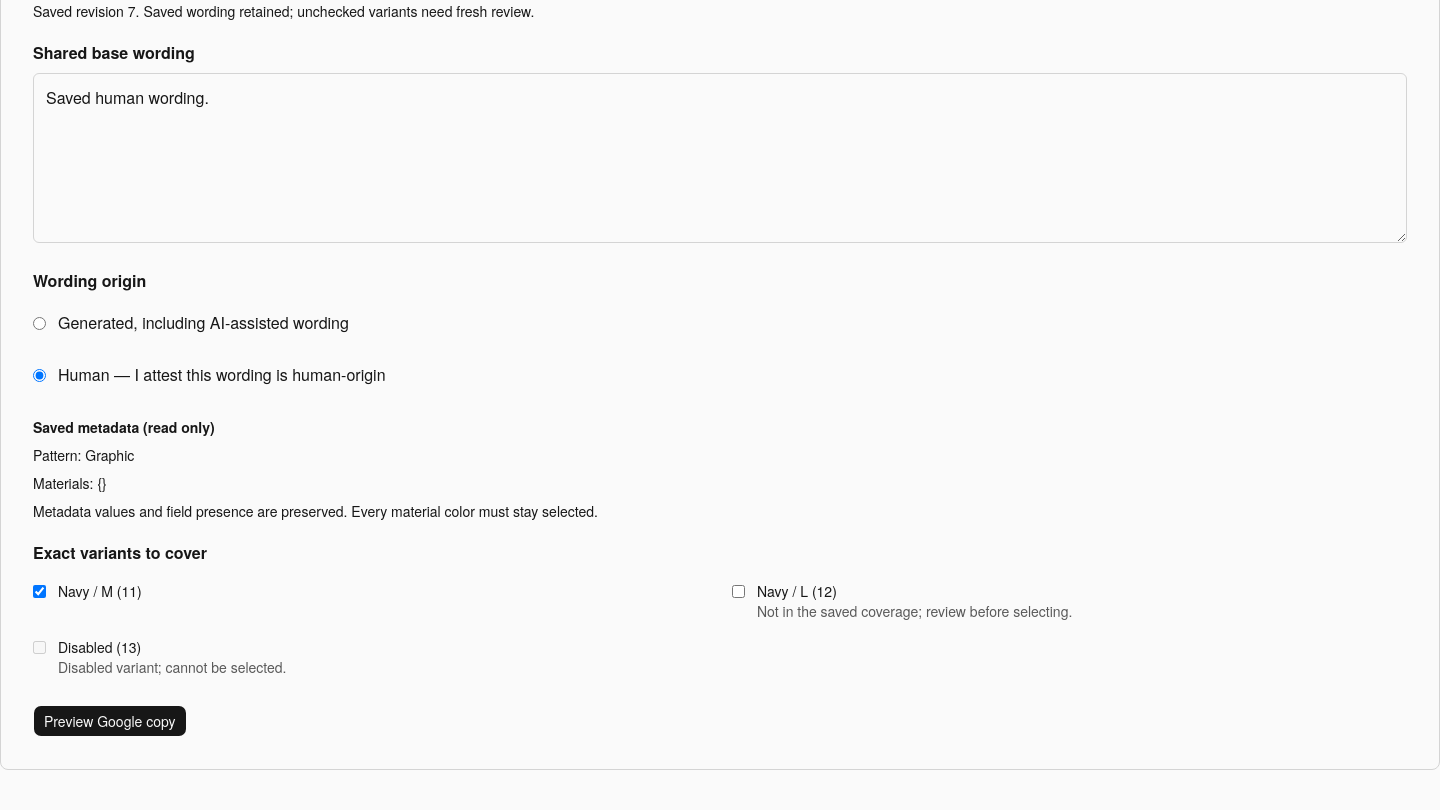
it: Google copy client safety › keeps all decisions blocked if unknown-outcome readback fails
The image size is (1440, 810).
(page scrolled)
Expected: the text "Saved revision 7" is shown, [33, 1, 534, 21]
Click the button "Preview Google copy" at x=110, y=721, box [33, 705, 187, 737]
(page scrolled)
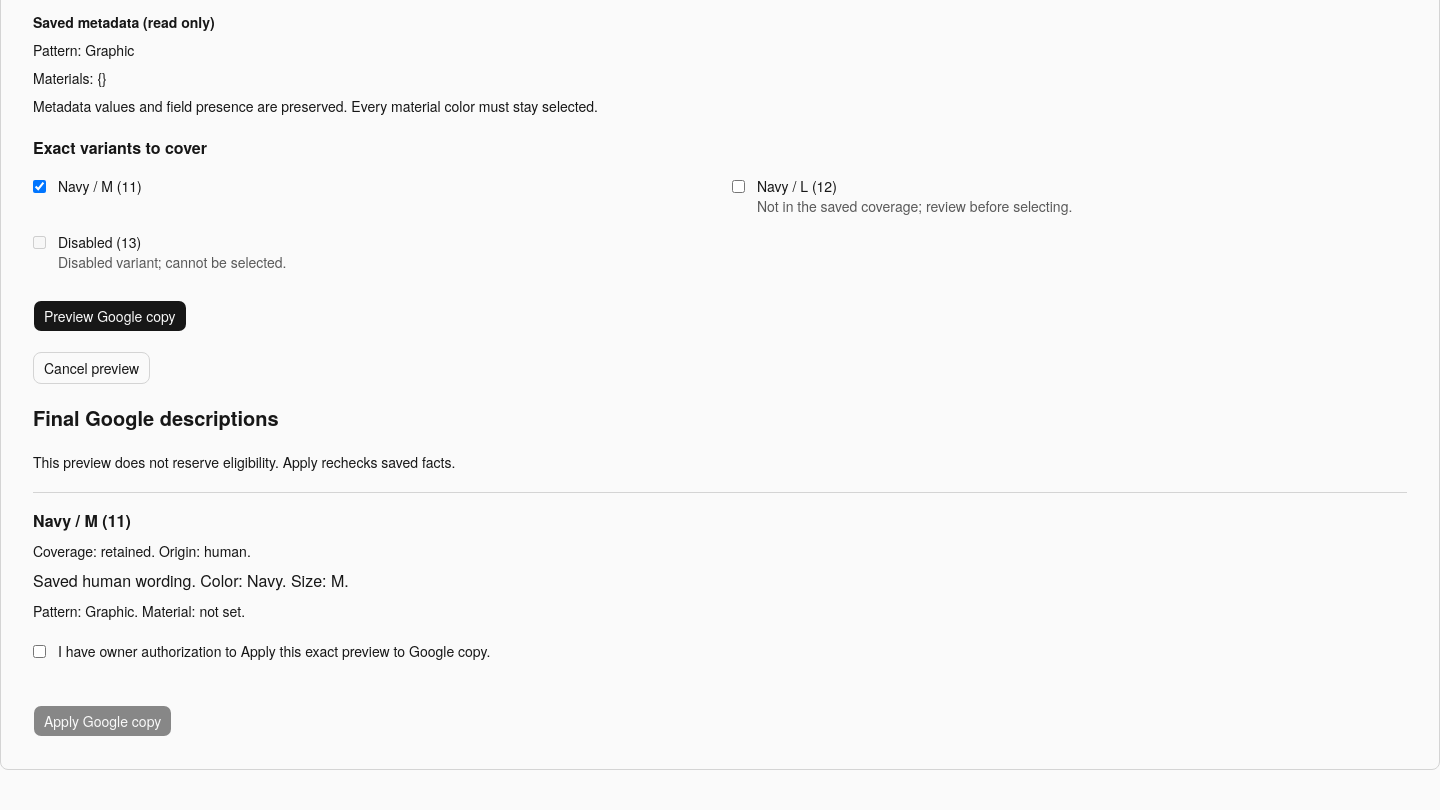
Now the heading "Final Google descriptions" is shown, box [33, 403, 278, 432]
Click the checkbox labelled "I have owner authorization" at x=40, y=652, box [33, 645, 46, 658]
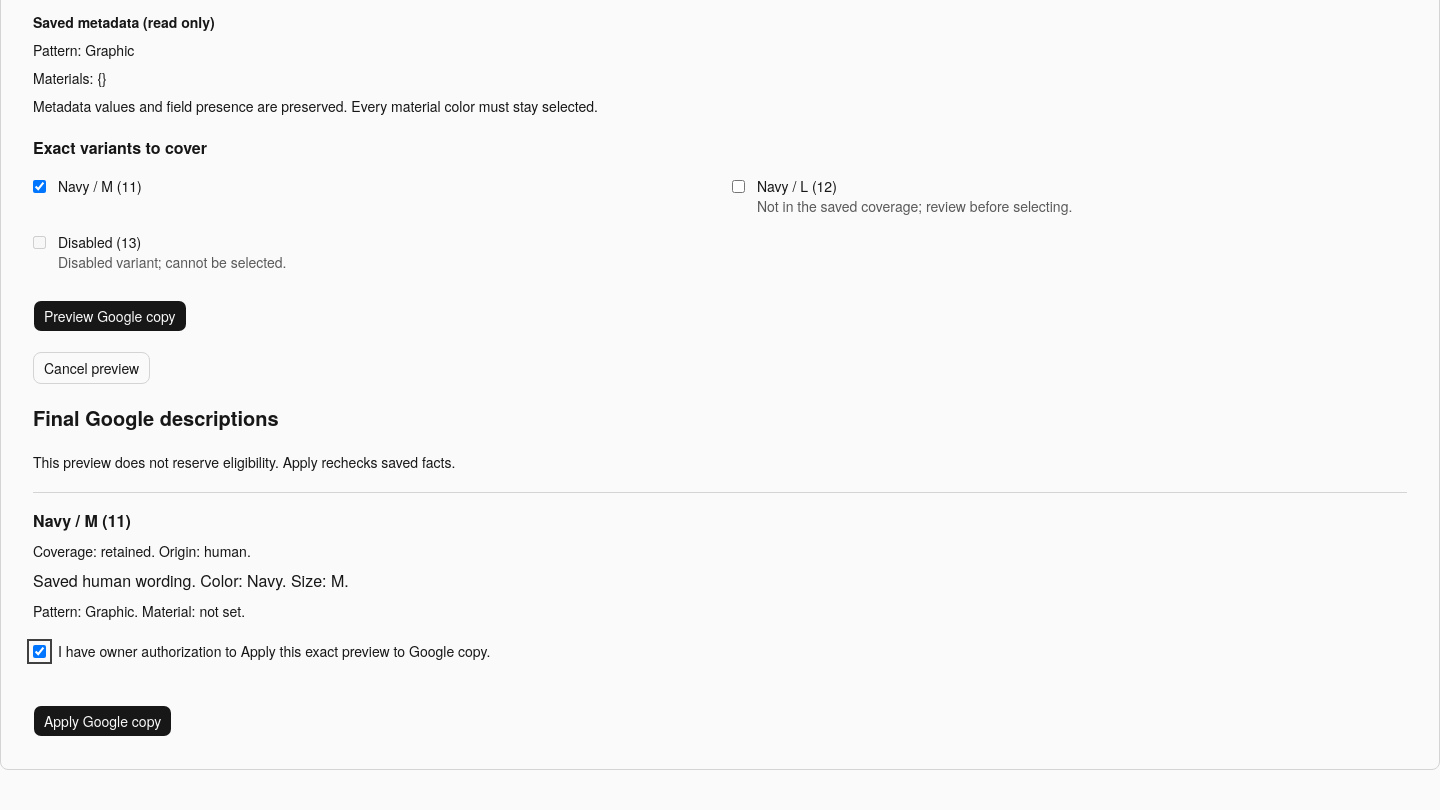
Click the button "Apply Google copy" at x=103, y=721, box [33, 705, 172, 737]
(page scrolled)
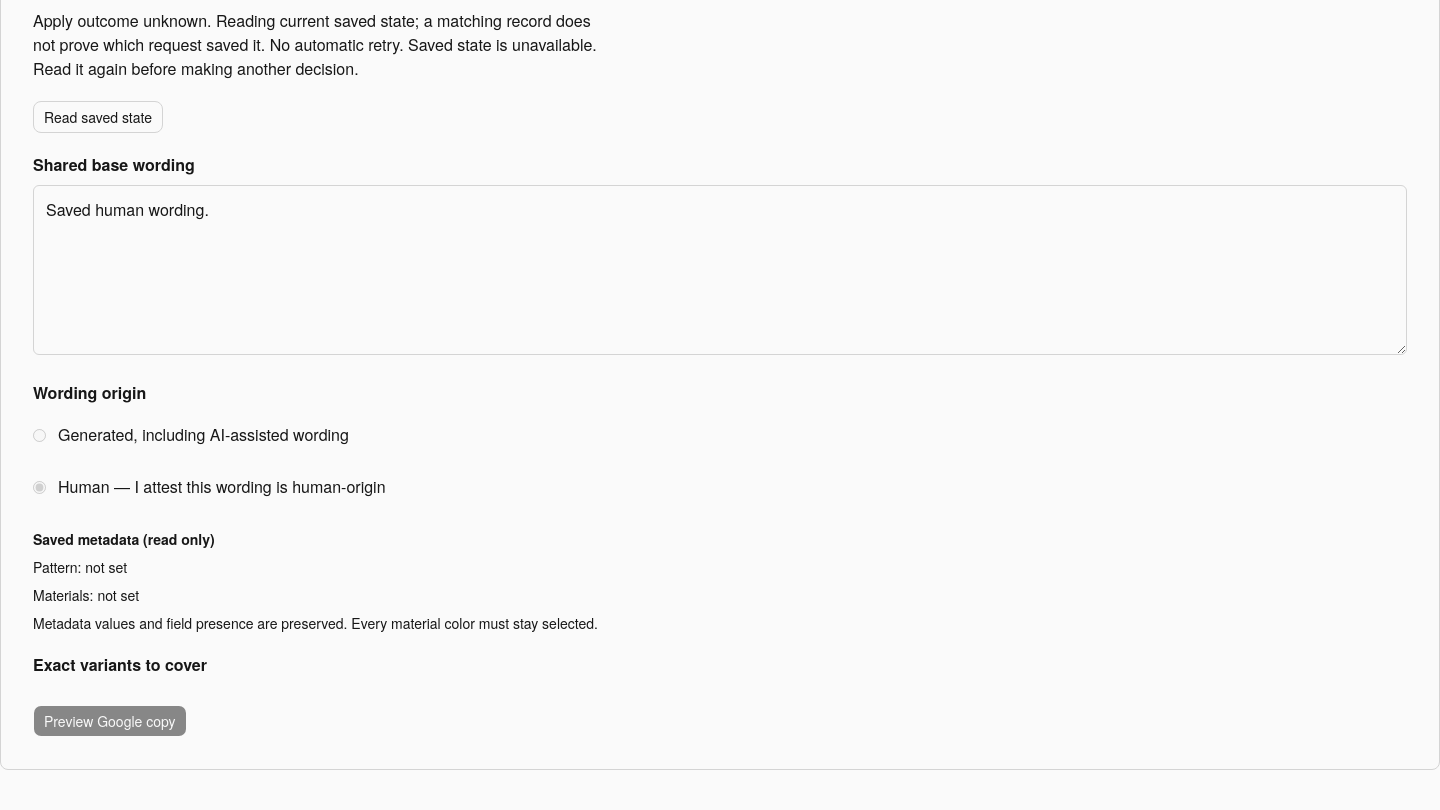
Expected: the text box is disabled, [33, 185, 1407, 355]
Now the text "Saved state is unavailable" is shown, box [33, 9, 597, 80]
